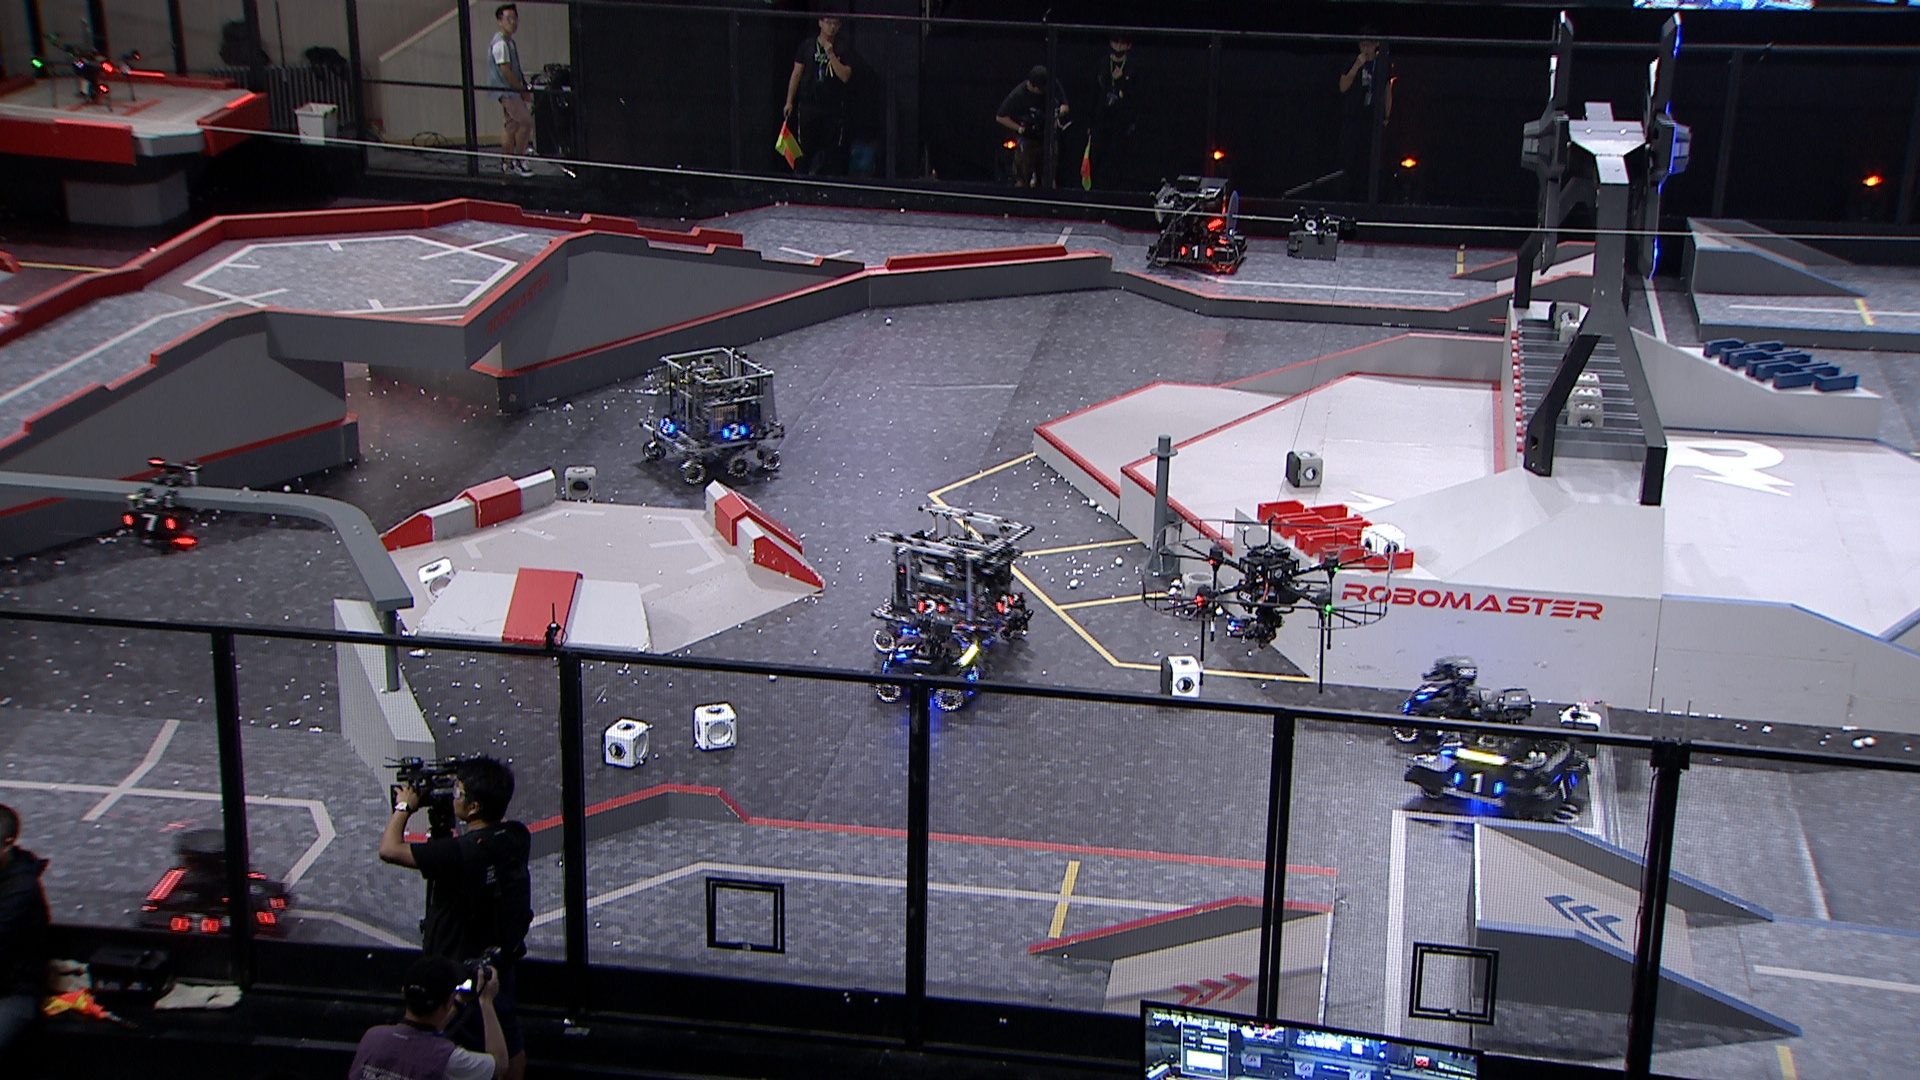armor: (1449, 770, 1505, 798), (166, 910, 222, 935), (120, 512, 177, 534), (1545, 774, 1580, 806), (252, 893, 286, 924), (915, 595, 948, 618), (1410, 680, 1443, 703), (1179, 244, 1215, 261), (1437, 735, 1465, 756), (891, 640, 918, 659), (723, 422, 749, 442), (993, 593, 1019, 613), (657, 415, 676, 436), (963, 665, 982, 684), (1230, 243, 1244, 261)
car: (1406, 680, 1590, 825), (868, 500, 1034, 645), (636, 344, 785, 488), (135, 828, 297, 959), (874, 615, 993, 711), (1145, 171, 1249, 276), (1393, 657, 1501, 749)
watcher: (119, 456, 206, 556)
